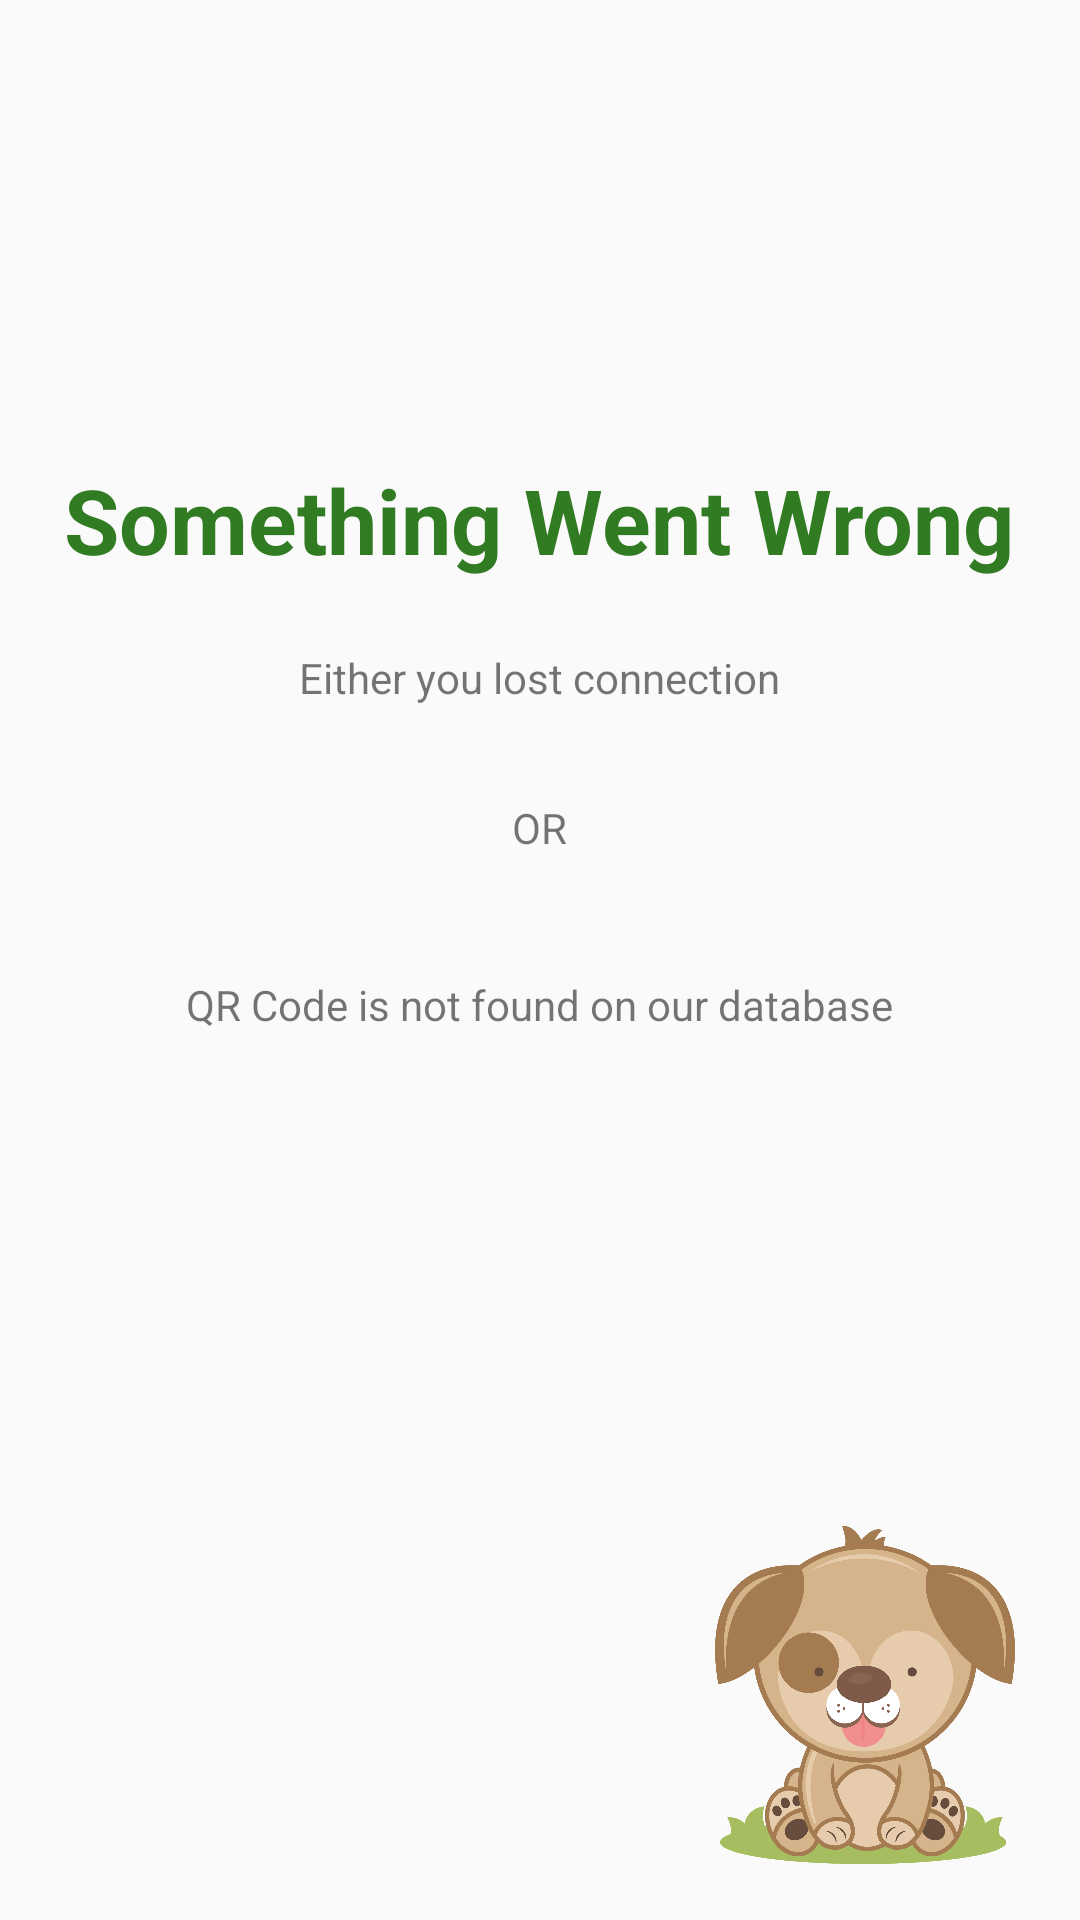

Icon click points for this 1080px x 1920px phone screenshot, format [x,y]:
cute pup: [865,1695]
